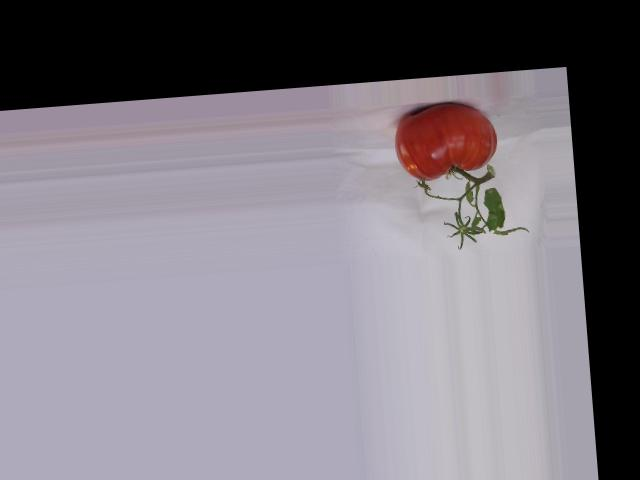tomato: (391, 99, 499, 182)
